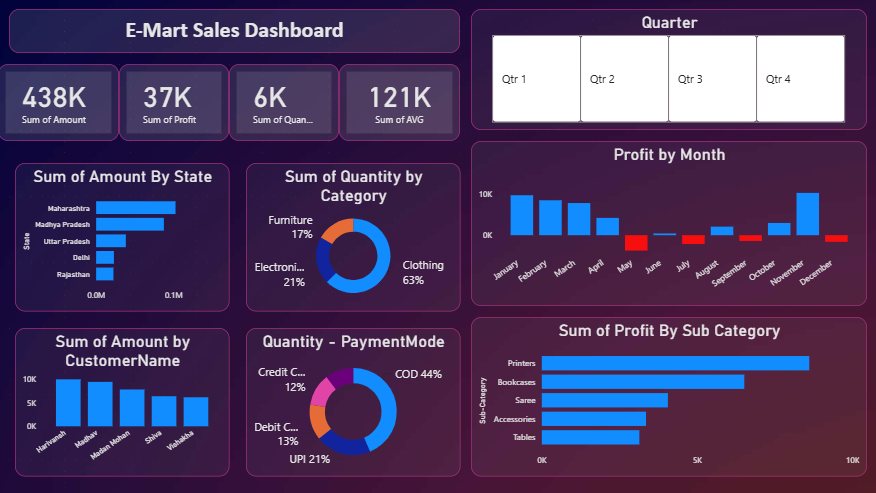

This screenshot's page, from the dashboard's own definition file:
{"tool":"powerbi","page":{"name":"E-Mart Sales Analysis","canvas":[1280,720],"ordinal":0},"visuals":[{"type":"textbox","box":[16,16,656,64],"z":0},{"type":"columnChart","title":"Profit by Month","fields":{"Category":["Orders.Order Date.Variation.Date Hierarchy.Month"],"Y":["Sum(Details.Profit)"]},"box":[688,208,576,240],"z":1000},{"type":"barChart","title":"Sum of Profit By Sub Category","fields":{"Category":["Details.Sub-Category"],"Y":["Sum(Details.Profit)"]},"box":[688,464,576,232],"z":2000},{"type":"donutChart","fields":{"Category":["Details.Category"],"Y":["Sum(Details.Quantity)"]},"box":[360,240,312,216],"z":3000},{"type":"donutChart","title":"Quantity - PaymentMode","fields":{"Category":["Details.PaymentMode"],"Y":["Sum(Details.Quantity)"]},"box":[360,480,312,216],"z":4000},{"type":"columnChart","fields":{"Category":["Orders.CustomerName"],"Y":["Sum(Details.Amount)"]},"box":[24,480,312,216],"z":5000},{"type":"cardVisual","fields":{"Data":["Sum(Details.Amount)"]},"box":[16,96,160,112],"z":6000},{"type":"cardVisual","fields":{"Data":["Sum(Details.Quantity)"]},"box":[336,96,160,112],"z":7000},{"type":"cardVisual","fields":{"Data":["Sum(Details.Profit)"]},"box":[176,96,160,112],"z":8000},{"type":"cardVisual","fields":{"Data":["Sum(Details.AVG)"]},"box":[496,96,176,112],"z":9000},{"type":"barChart","title":"Sum of Amount By State","fields":{"Category":["Orders.State"],"Y":["Sum(Details.Amount)"]},"box":[24,240,312,216],"z":10000},{"type":"advancedSlicerVisual","fields":{"Values":["Orders.Order Date.Variation.Date Hierarchy.Quarter"]},"box":[688,16,576,176],"z":11000}]}

Visuals, with their boxes in screenshot pixels (x1, y1, x2, y2), scaled from the page's 1280x720 canvas onto the 876x493 screenshot:
textbox: {"x1": 11, "y1": 11, "x2": 460, "y2": 55}
"Profit by Month" columnChart: {"x1": 471, "y1": 142, "x2": 865, "y2": 307}
"Sum of Profit By Sub Category" barChart: {"x1": 471, "y1": 318, "x2": 865, "y2": 477}
donutChart - Details.Category x Sum(Details.Quantity): {"x1": 246, "y1": 164, "x2": 460, "y2": 312}
"Quantity - PaymentMode" donutChart: {"x1": 246, "y1": 329, "x2": 460, "y2": 477}
columnChart - Orders.CustomerName x Sum(Details.Amount): {"x1": 16, "y1": 329, "x2": 230, "y2": 477}
cardVisual - Sum(Details.Amount): {"x1": 11, "y1": 66, "x2": 120, "y2": 142}
cardVisual - Sum(Details.Quantity): {"x1": 230, "y1": 66, "x2": 339, "y2": 142}
cardVisual - Sum(Details.Profit): {"x1": 120, "y1": 66, "x2": 230, "y2": 142}
cardVisual - Sum(Details.AVG): {"x1": 339, "y1": 66, "x2": 460, "y2": 142}
"Sum of Amount By State" barChart: {"x1": 16, "y1": 164, "x2": 230, "y2": 312}
advancedSlicerVisual - Orders.Order Date.Variation.Date Hierarchy.Quarter: {"x1": 471, "y1": 11, "x2": 865, "y2": 131}
